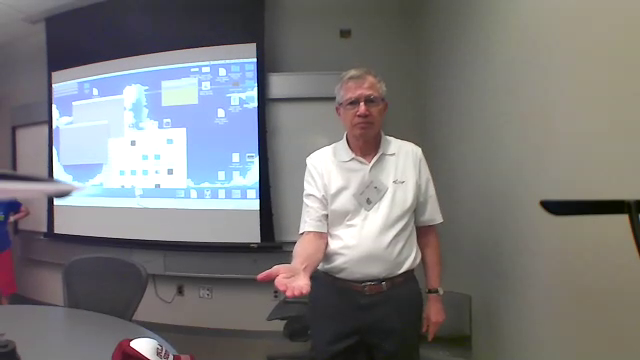land: (247, 255, 320, 304)
